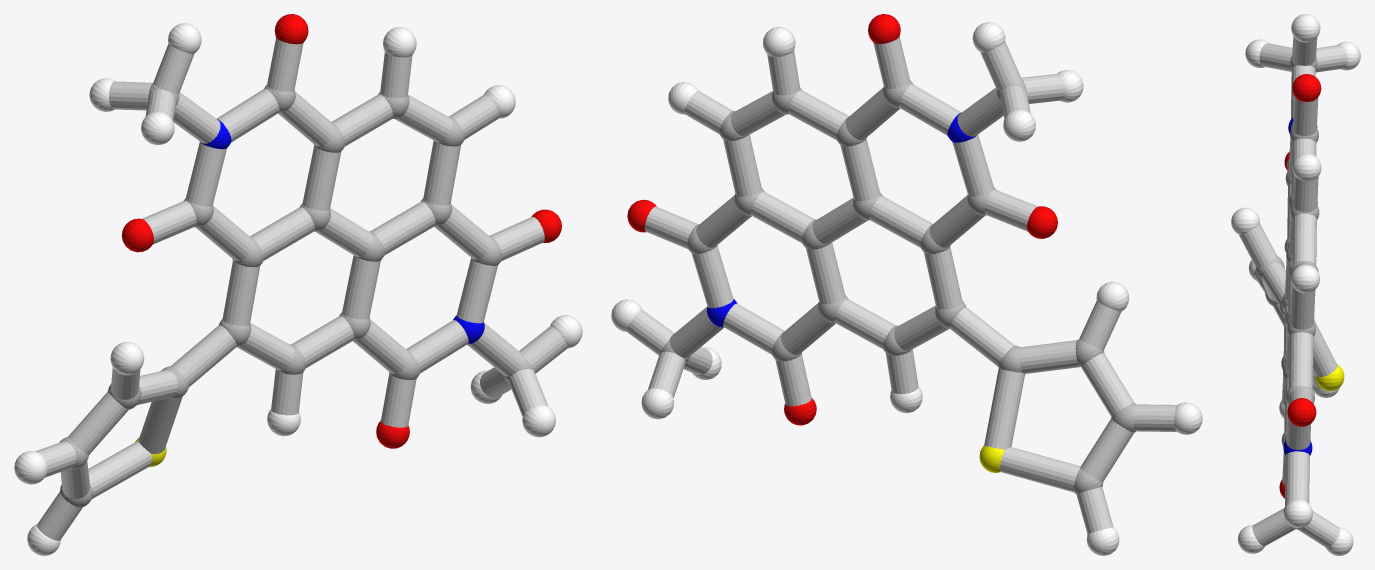
The model's file is color.glb.
3 renders of one model, left to right at view 1: azimuth 30°, elevation 25°; view 2: azimuth 150°, elevation 25°; view 3: azimuth 270°, elevation 25°, orthographic. The views are drawn at different scales.
Visible parts, largest first — view 1: grp14119, grp7241, grp1, grp12309, grp11585; view 2: grp14119, grp7241, grp1, grp12309, grp11585; view 3: grp14119, grp7241, grp1, grp12309, grp13757, grp11585.
Boxes of the visible parts, bbox=[...] form: grp14119: bbox=[35, 37, 567, 540]; grp7241: bbox=[14, 23, 582, 555]; grp1: bbox=[59, 84, 533, 507]; grp12309: bbox=[121, 14, 561, 448]; grp11585: bbox=[200, 119, 484, 344]; grp14119: bbox=[626, 36, 1176, 534]; grp7241: bbox=[611, 22, 1202, 555]; grp1: bbox=[660, 79, 1136, 493]; grp12309: bbox=[627, 14, 1057, 425]; grp11585: bbox=[706, 113, 977, 327]; grp14119: bbox=[1239, 36, 1347, 547]; grp7241: bbox=[1231, 14, 1360, 555]; grp1: bbox=[1255, 55, 1319, 529]; grp12309: bbox=[1279, 74, 1321, 498]; grp13757: bbox=[1315, 364, 1344, 390]; grp11585: bbox=[1283, 118, 1317, 455].
Bounding box in the file's own units: 11.98 × 9.93 × 2.68.
